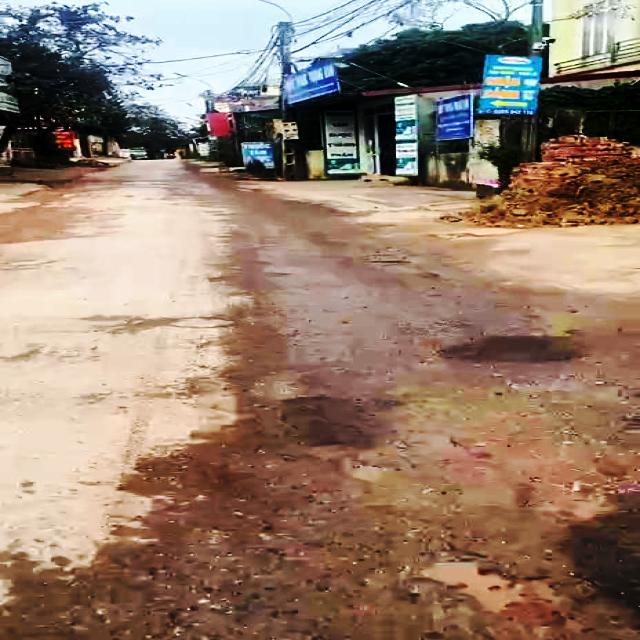pothole: (390, 551, 640, 640)
